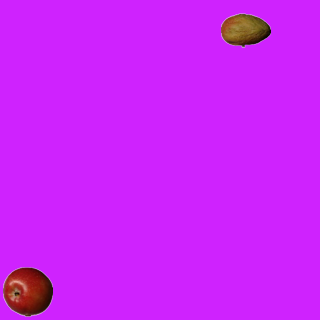Apple Braeburn: (2, 266, 52, 316)
Papaya: (220, 5, 270, 55)
